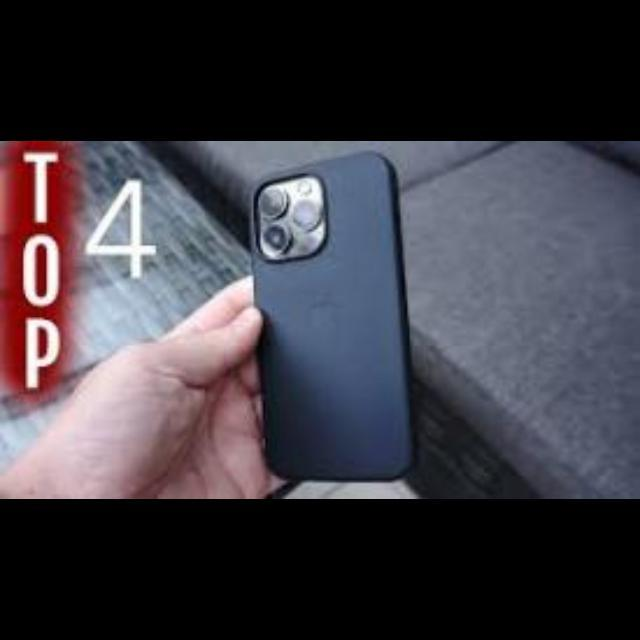Phone: (252, 151, 418, 481)
